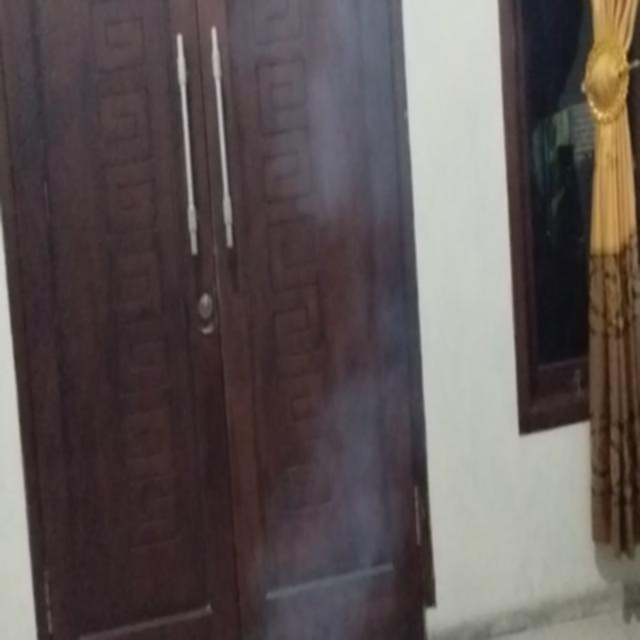smoke: (280, 31, 443, 640)
